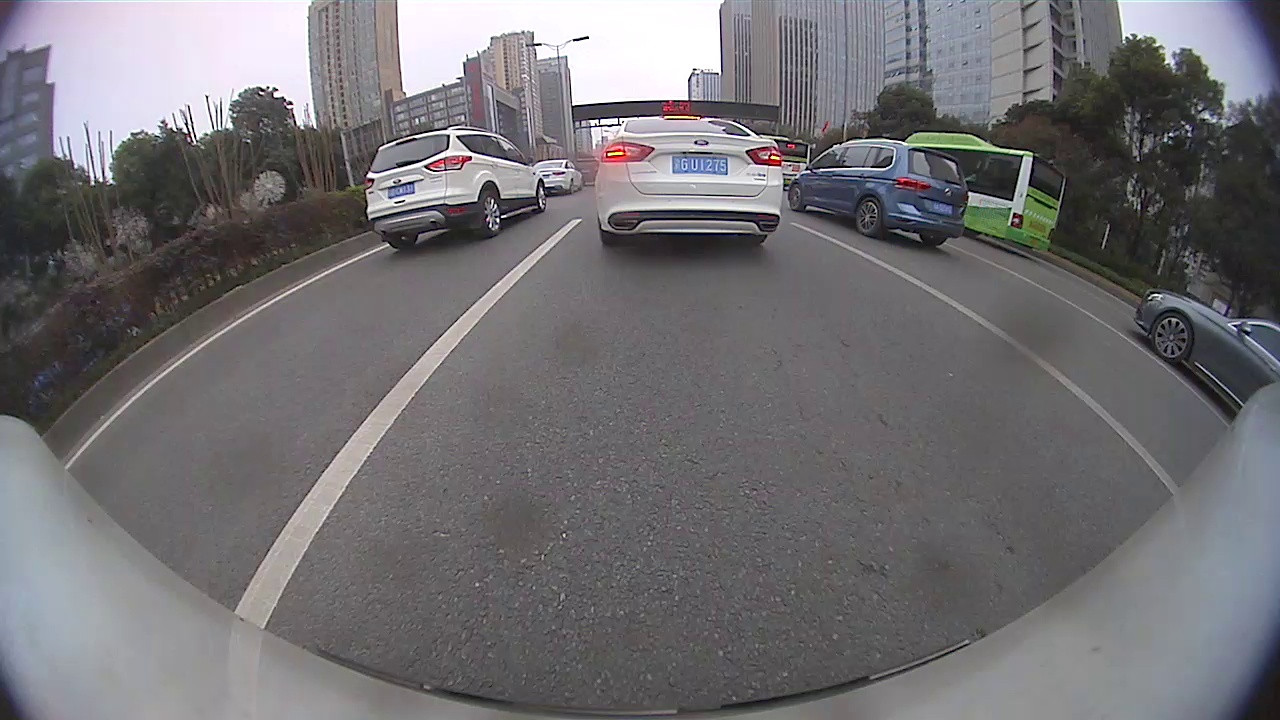bus: (905, 131, 1066, 254), (765, 138, 809, 173)
car: (595, 114, 784, 247), (363, 125, 548, 251), (787, 138, 969, 248), (1133, 286, 1279, 414), (532, 159, 582, 196), (573, 157, 600, 185)
front: (1150, 313, 1195, 364), (786, 181, 806, 213), (536, 179, 548, 215)
rear: (853, 197, 885, 238), (475, 197, 507, 238)
